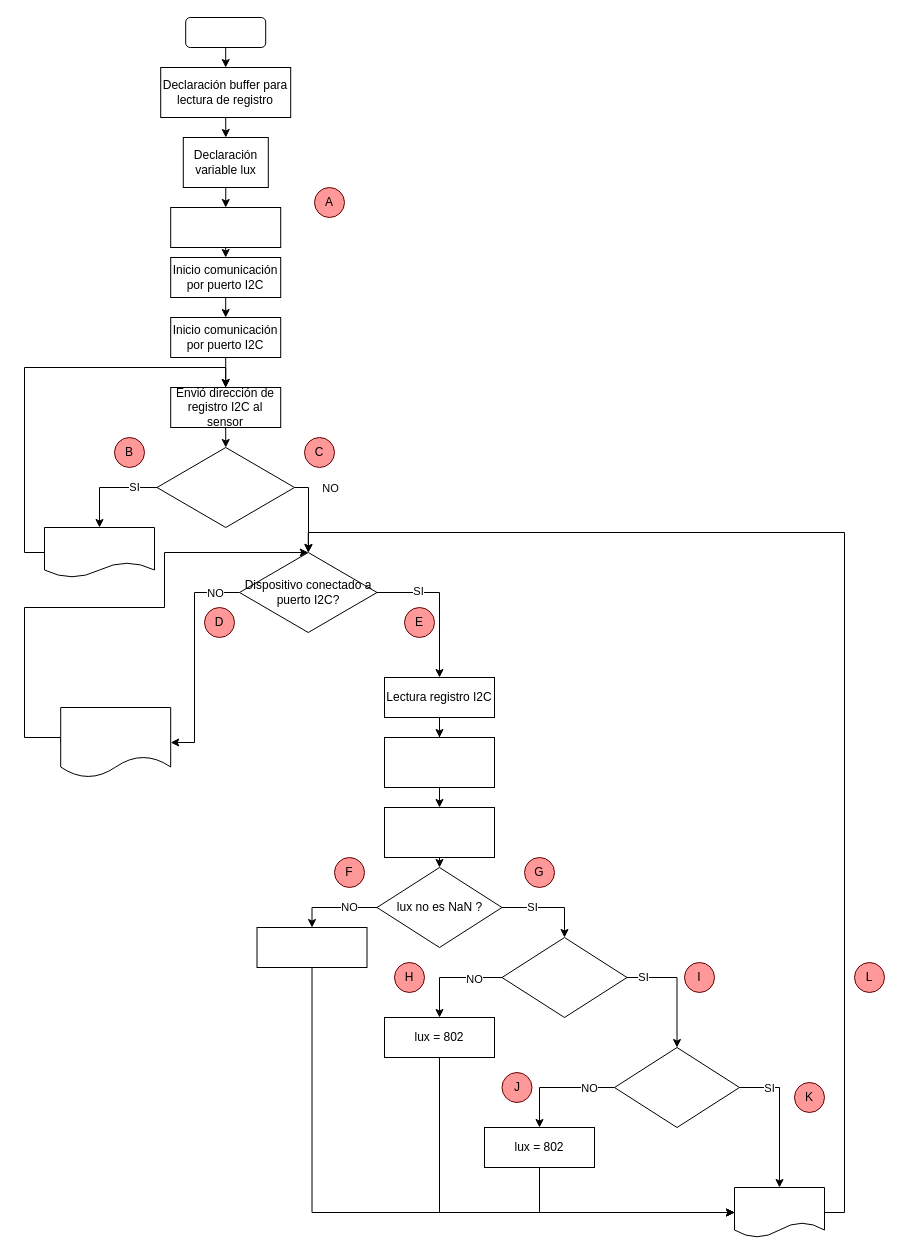
Some shapes in this 902 by 1255 pixel diagram are drawn without their labels. The centre of each missing label's shape, as x and y in pixels:
"LUX lx = lux": point (779, 1212)
Casteo y obtención valor de luminosidad (lux): point (439, 832)
Combinación lecturas del buffer en dato de 16 bits: point (439, 762)
Dispositivo conectado a puerto I2C no encontrado: point (115, 742)
INICIO: point (225, 32)
Inicio comunicación serial: point (225, 227)
La comunicación I2C ha fallado: point (99, 552)
La comunicación I2C ha fallado?: point (225, 487)
lux <65535 lx: point (677, 1087)
lux = 801: point (311, 947)
lux >= 0 lx ?: point (564, 977)
